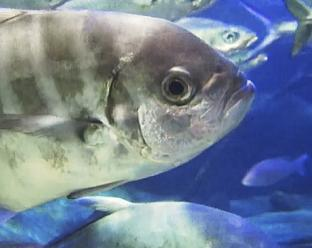Carangidae -Jacks-: (0, 1, 253, 232)
